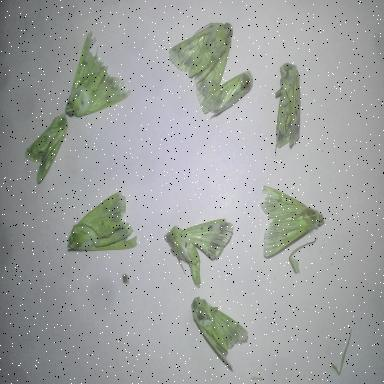abw: (164, 16, 238, 116), (63, 28, 137, 120), (185, 294, 252, 376), (162, 215, 236, 289), (257, 182, 327, 260), (64, 189, 140, 257), (20, 108, 72, 190), (272, 56, 304, 158), (199, 67, 256, 121)
